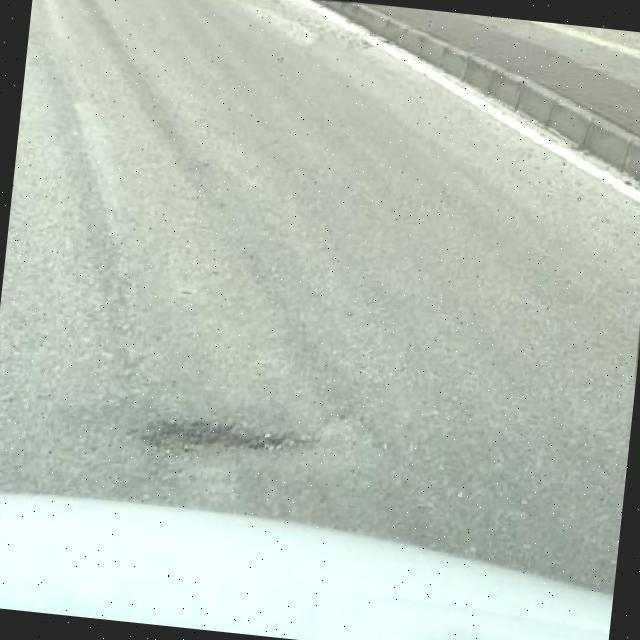Pothole: (132, 418, 312, 458)
